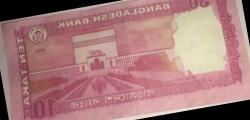10 taka: (3, 24, 250, 118)
